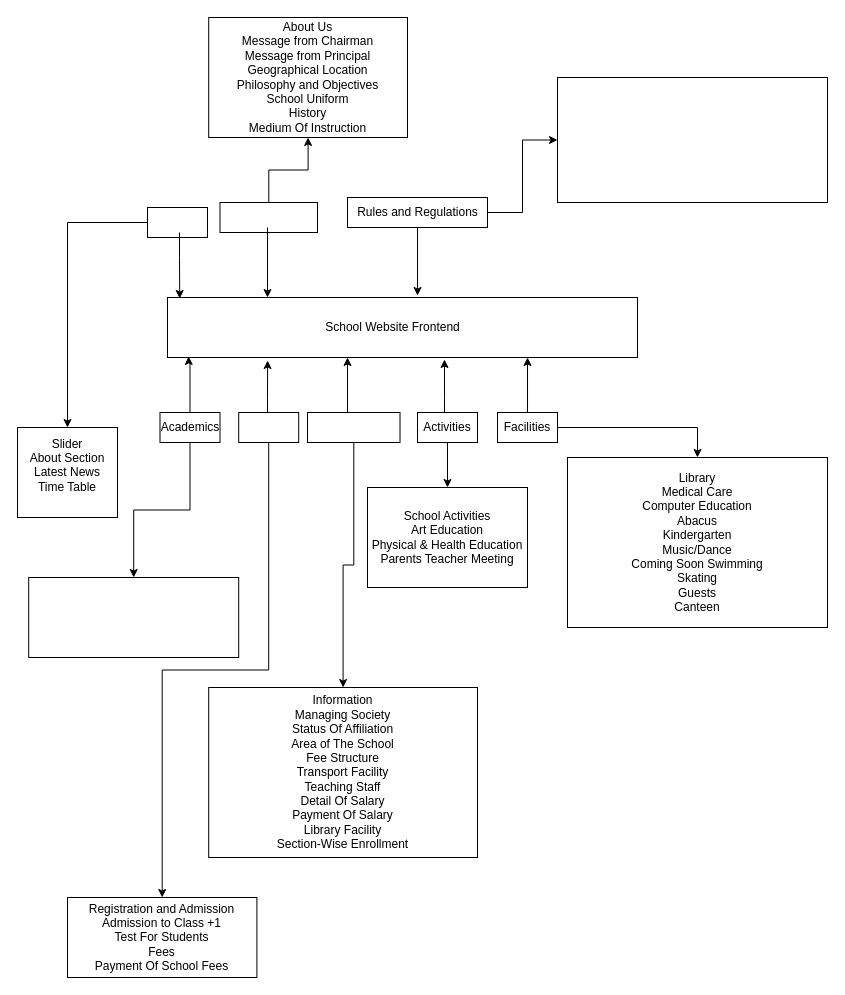
The diagram is 845 pixels wide and 995 high, and some of its shapes have lost their labels. The box of each missing label's shape, as (x1, y1, x2, y2) in pixels:
Admission: (238, 412, 299, 442)
Affiliation Examinations Withdrawals Remedial Awards: (28, 576, 239, 658)
Home: (146, 206, 208, 238)
School Info: (306, 412, 400, 442)
The School: (219, 202, 318, 232)
Visits School Rules Leave Regulations Serious Offences: (556, 76, 828, 202)
